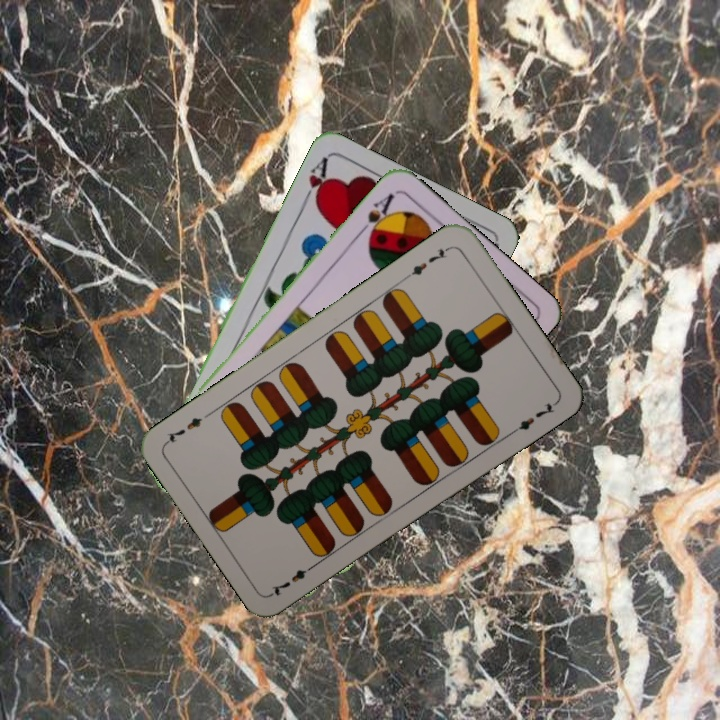E7: (267, 559, 319, 599), (401, 242, 454, 281)
HA: (297, 154, 333, 210)
SA: (354, 189, 397, 243)
